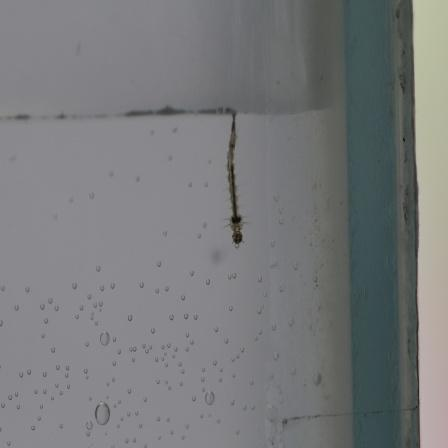Jentik-Nyamuk: (221, 111, 250, 248)
